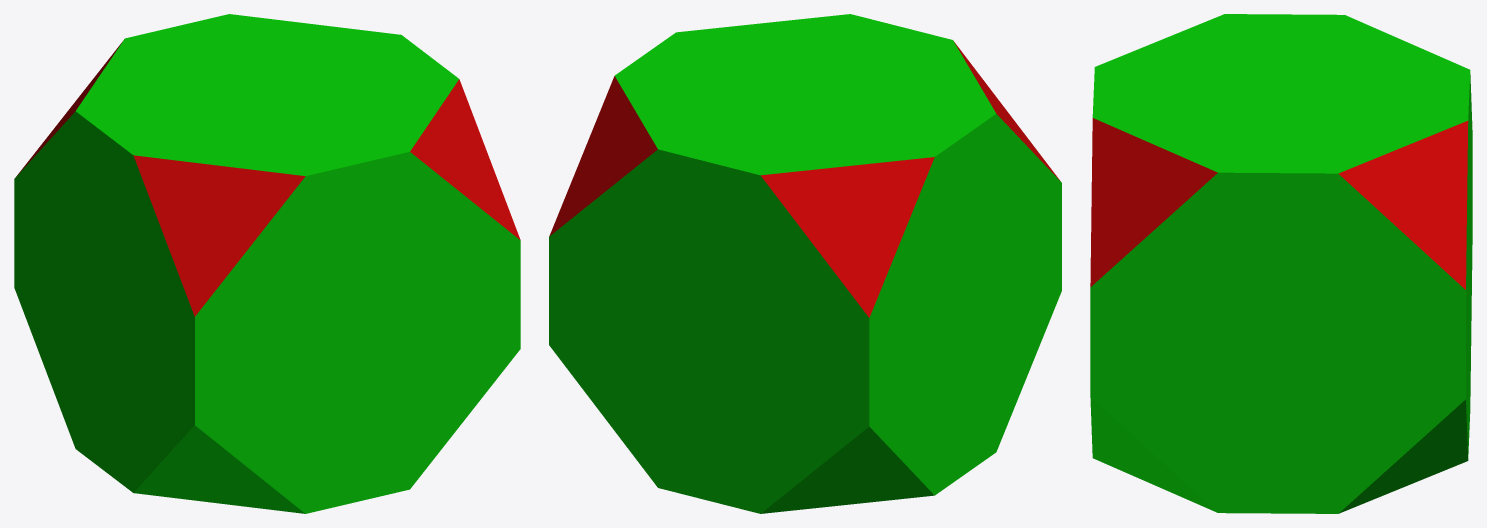
File: anim_cube_000022.obj
The picture shows the model from 3 angles, left to right: view 1: azimuth 30°, elevation 25°; view 2: azimuth 150°, elevation 25°; view 3: azimuth 270°, elevation 25°; orthographic projection.
Parts seen in each view (by area): view 1: Cube_Cube.002_Material.002, Cube_Cube.002_Material.001; view 2: Cube_Cube.002_Material.002, Cube_Cube.002_Material.001; view 3: Cube_Cube.002_Material.002, Cube_Cube.002_Material.001.
Part boxes in pixels (left/top/right/bottom): Cube_Cube.002_Material.002: left=14, top=14, right=520, bottom=513; Cube_Cube.002_Material.001: left=14, top=39, right=520, bottom=316; Cube_Cube.002_Material.002: left=549, top=14, right=1061, bottom=513; Cube_Cube.002_Material.001: left=549, top=42, right=1060, bottom=317; Cube_Cube.002_Material.002: left=1090, top=14, right=1472, bottom=513; Cube_Cube.002_Material.001: left=1090, top=118, right=1468, bottom=289.
Size of the model in its own units: 3.15 by 3.09 by 3.15.
